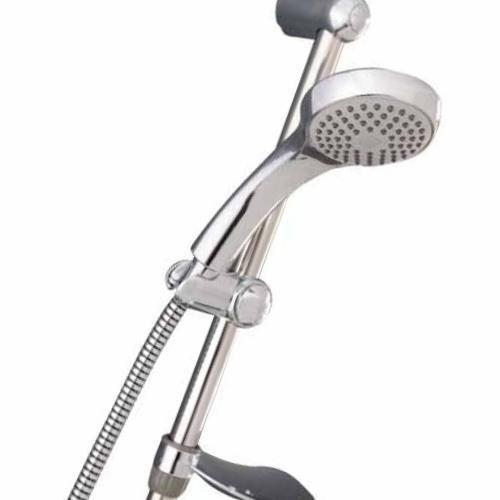Ducha: (56, 0, 455, 499)
